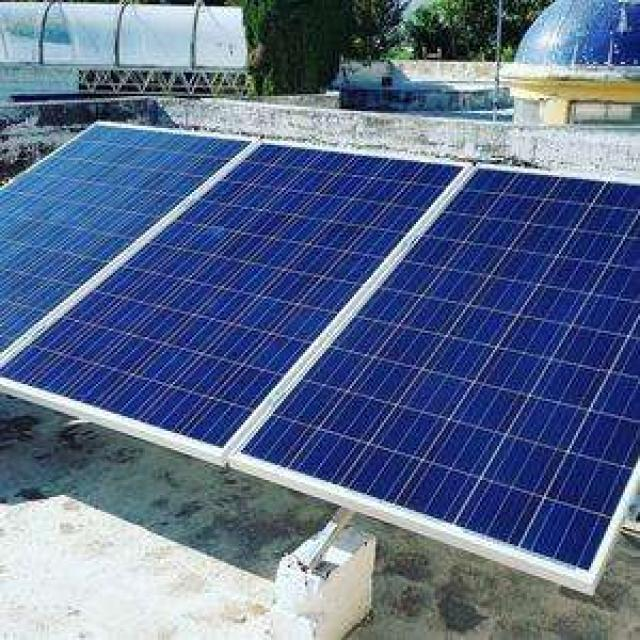clean-solar-panel: (1, 124, 640, 590)
